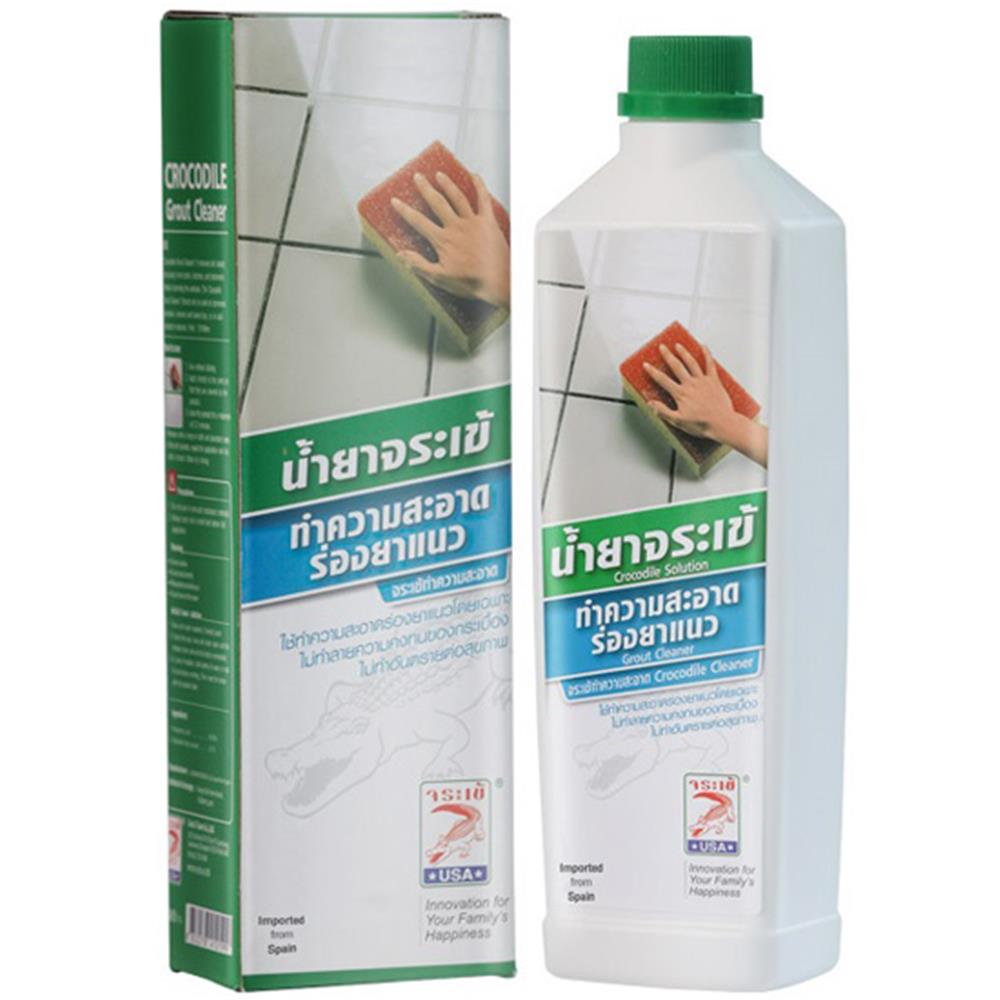Cleaning_solution: (521, 27, 862, 997)
